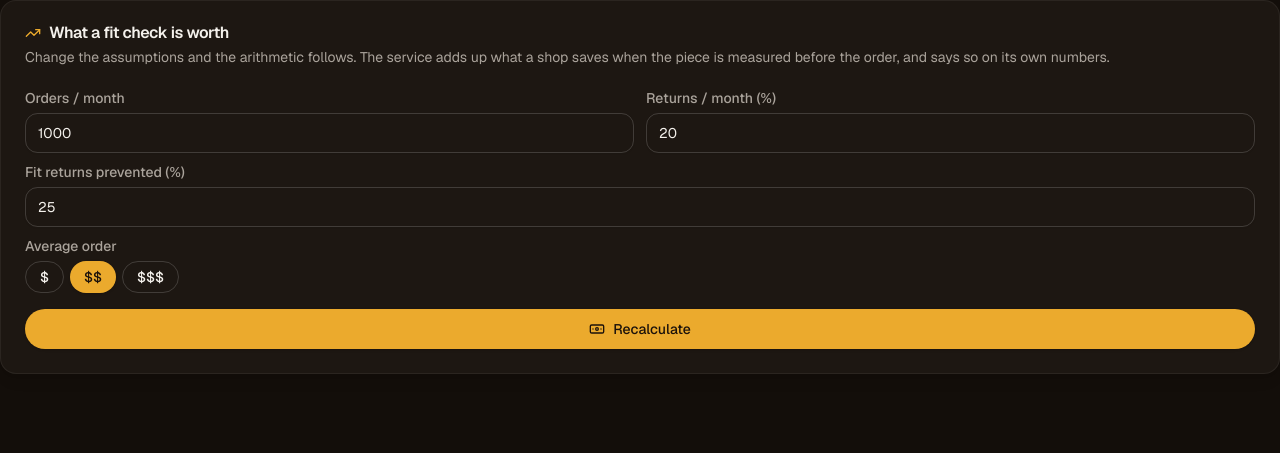
Test: ValuePanel › shows what the service said when it refuses the assumptions
The image size is (1280, 453).
Click the button "Recalculate": (640,329) [25,309,1255,349]
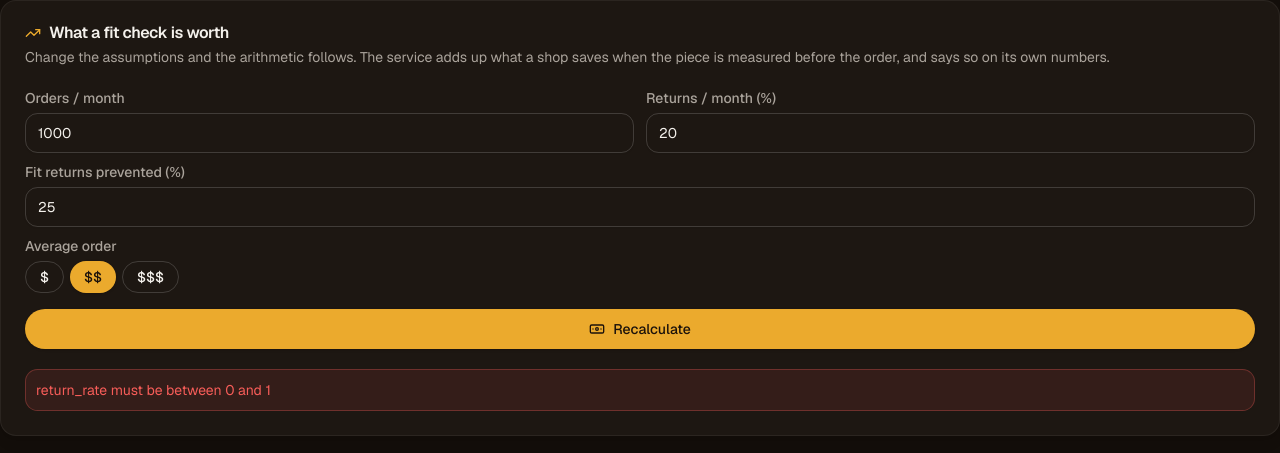
Check: the text "return_rate must be between 0 and 1" is shown, box [25,369,1255,411]
